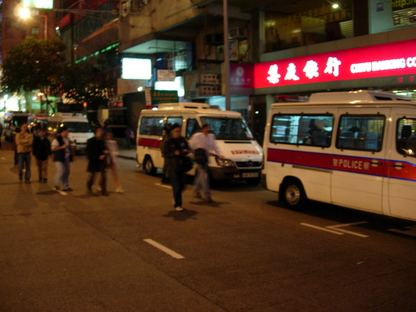ambulance: (135, 103, 264, 192)
